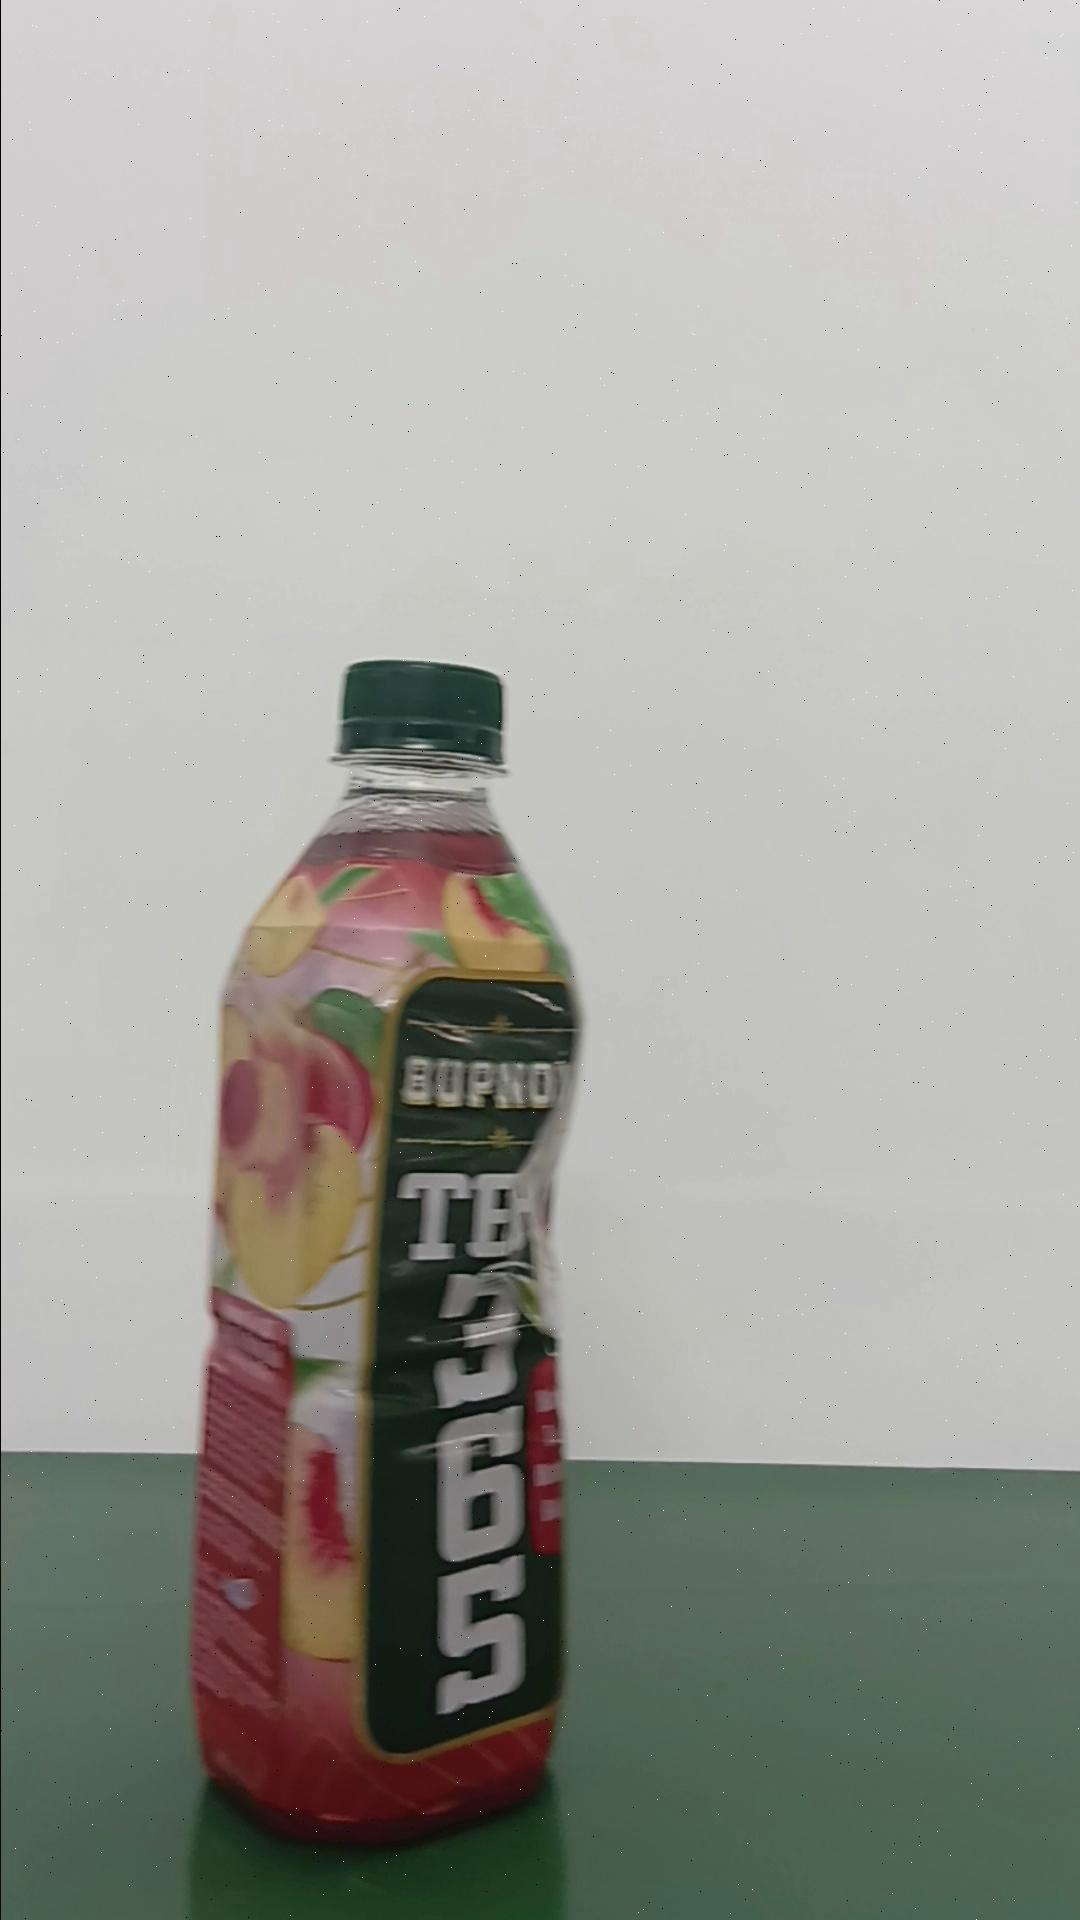loi meo sp: (186, 655, 584, 1847)
